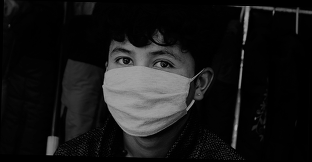with_mask: (102, 45, 195, 139)
